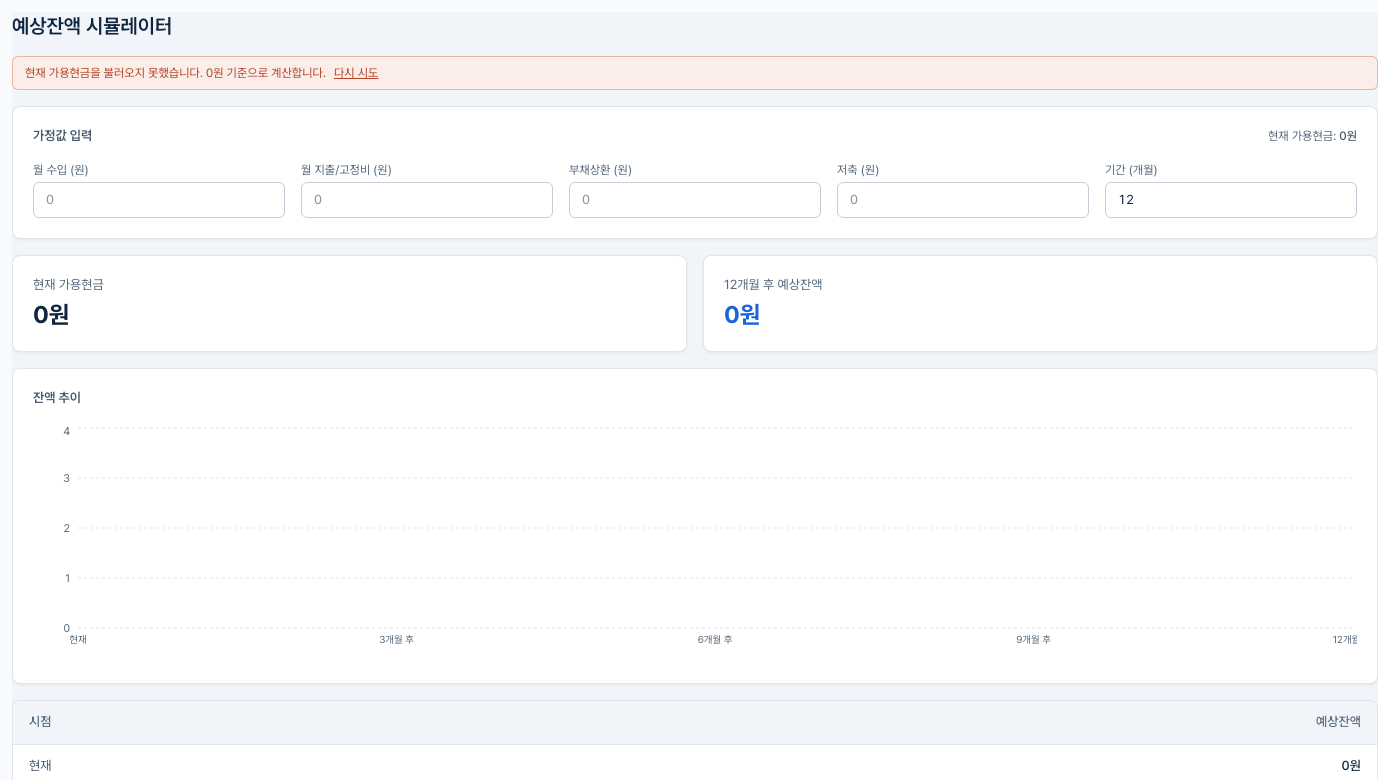
Test: 현재 가용현금 › 못 불러오면 0 기준으로 계산한다고 알리고 재시도를 준다
Check: the text "현재 가용현금을 불러오지 못했습니다. 0원 기준으로 계산합니다." is shown, box [25,65,326,81]
Click the button "다시 시도".
click(356, 73)  # box [334,65,378,81]
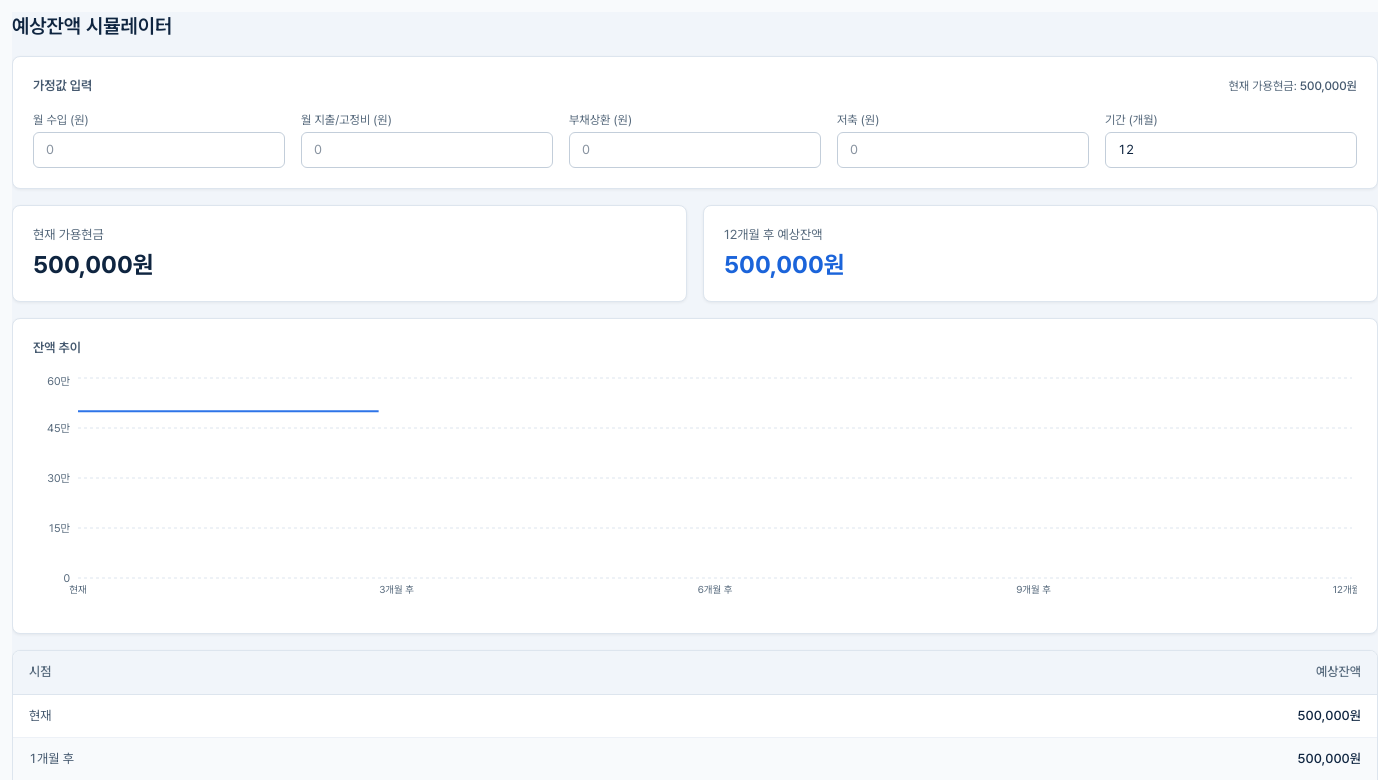
Check: the text "0원 기준으로 계산합니다" is gone
